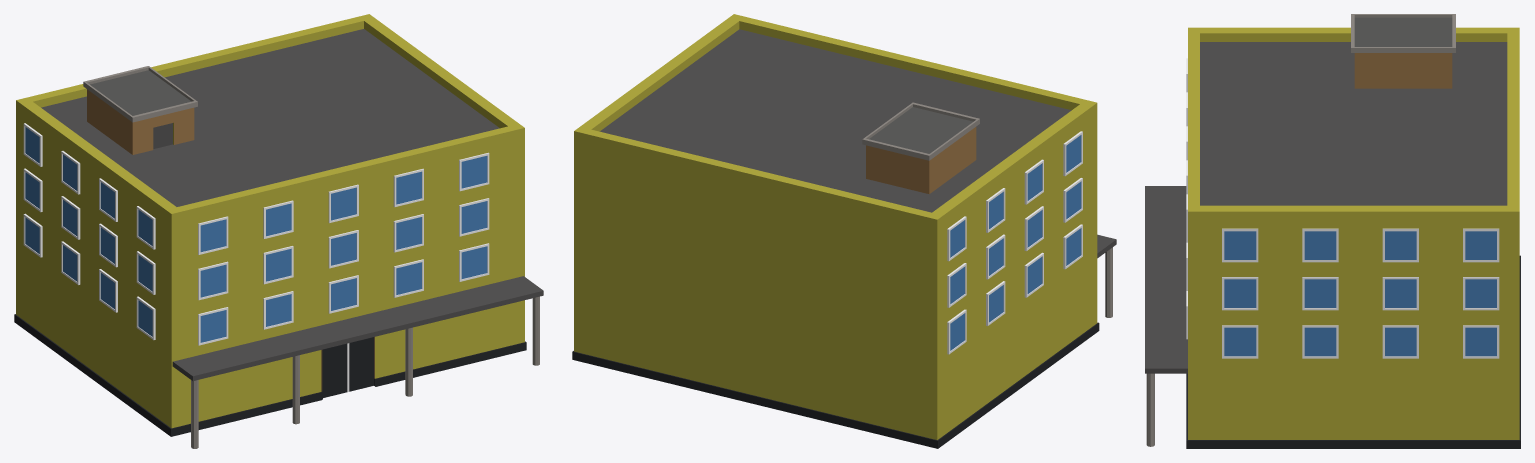
Rendered from Building_6.fbx.
The picture shows the model from 3 angles, left to right: view 1: azimuth 30°, elevation 25°; view 2: azimuth 150°, elevation 25°; view 3: azimuth 270°, elevation 25°; orthographic projection. The views are drawn at different scales.
Visible parts, largest first — view 1: Building_6; view 2: Building_6; view 3: Building_6.
Part boxes in pixels (left/top/right/bottom): Building_6: left=14, top=14, right=543, bottom=448; Building_6: left=572, top=14, right=1116, bottom=448; Building_6: left=1145, top=14, right=1520, bottom=448.
Bounding box in the file's own units: 1771 × 1203 × 1517.
